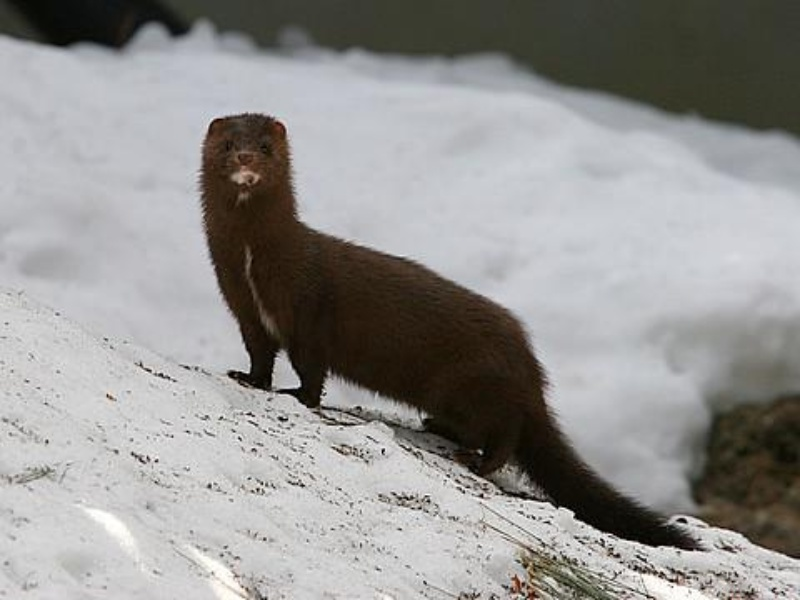minkish: (195, 109, 709, 554)
